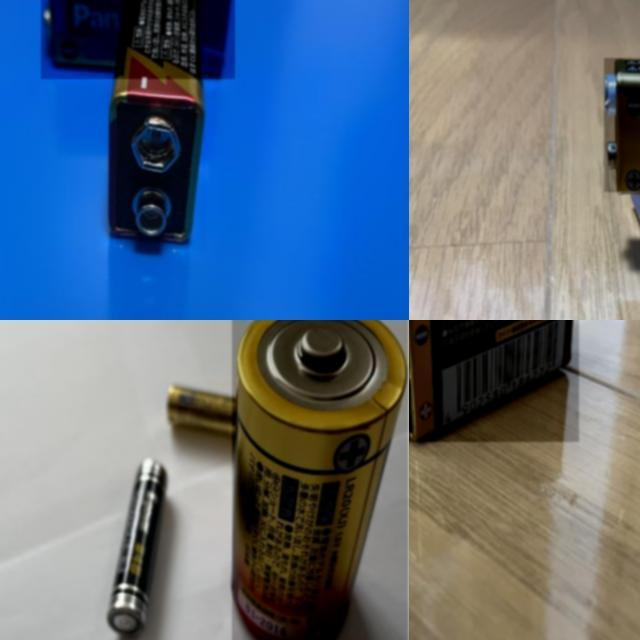9V: (107, 0, 206, 249), (409, 320, 579, 442), (40, 0, 235, 79)
